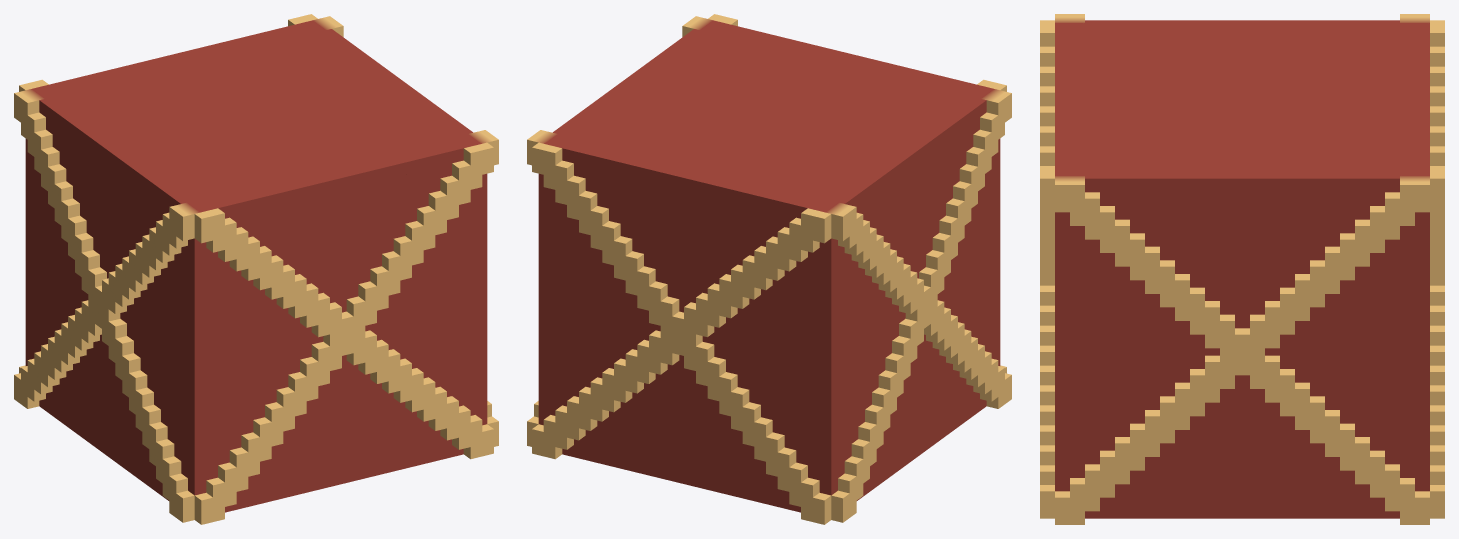
Rendered from BlueBuilding.fbx.
3 views of the same model, side by side, from view 1: azimuth 30°, elevation 25°; view 2: azimuth 150°, elevation 25°; view 3: azimuth 270°, elevation 25° (orthographic). The views are drawn at different scales.
Visible parts, largest first — view 1: Box; view 2: Box; view 3: Box.
Part boxes in pixels (x1,y1,x2,y2): Box: [14, 14, 498, 524]; Box: [527, 14, 1011, 524]; Box: [1040, 14, 1444, 524].
Bounding box in the file's own units: 27 × 25 × 27.
Materials: 1 (1 with a texture image).
